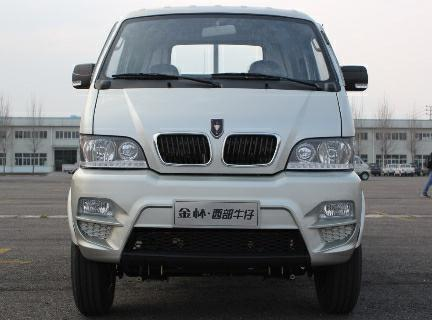金杯-西部牛仔: (65, 2, 373, 315)
